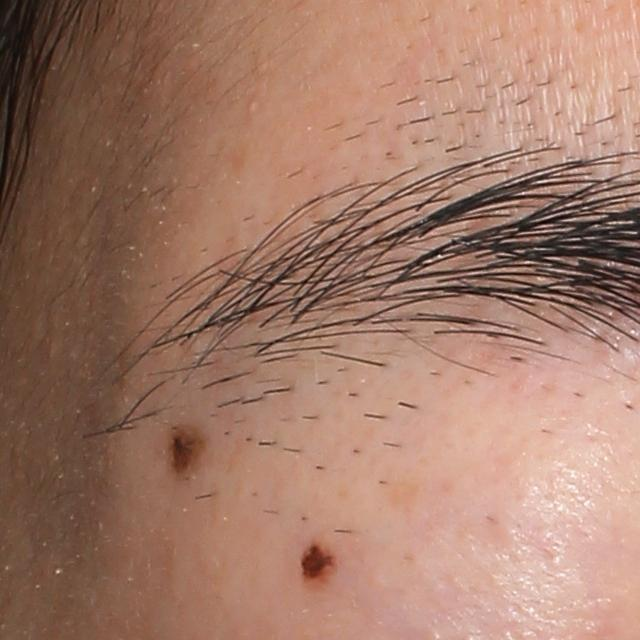nevus: (166, 425, 206, 486), (294, 540, 340, 584)
